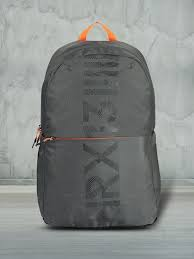backpack: (35, 30, 161, 229)
